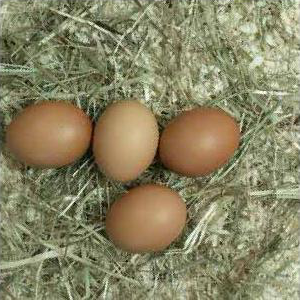egg: (6, 101, 93, 168), (104, 184, 187, 253), (93, 100, 160, 182), (161, 109, 240, 176)
